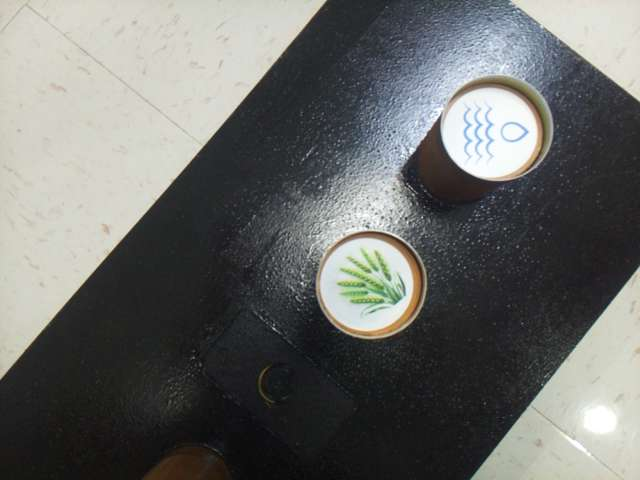water_barrel: (444, 88, 537, 179)
wheat_barrel: (322, 239, 414, 332)
